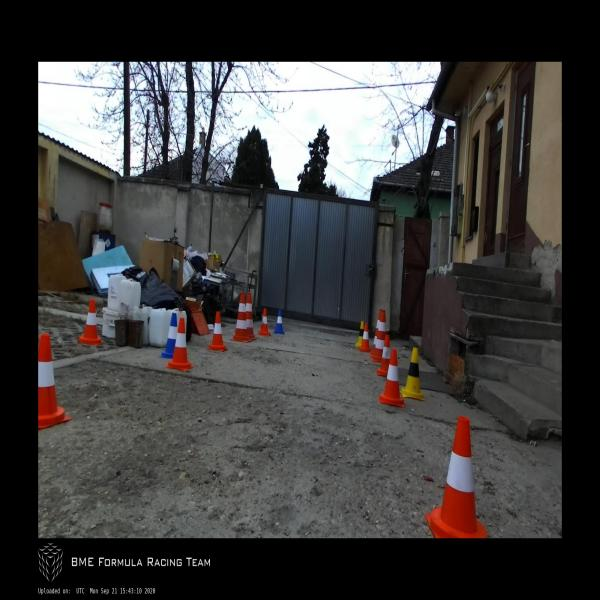blue_cone: (159, 312, 178, 358), (273, 308, 285, 334)
large_orange_cone: (230, 292, 252, 342), (371, 310, 386, 362), (370, 309, 383, 357), (246, 293, 257, 340)
orange_cone: (424, 416, 488, 538), (38, 334, 72, 429), (165, 318, 194, 371), (379, 348, 405, 406), (78, 299, 104, 346), (207, 312, 227, 352), (377, 334, 391, 376), (257, 308, 271, 336), (358, 323, 371, 351)
yellow_cone: (399, 347, 426, 402), (356, 321, 364, 347)
